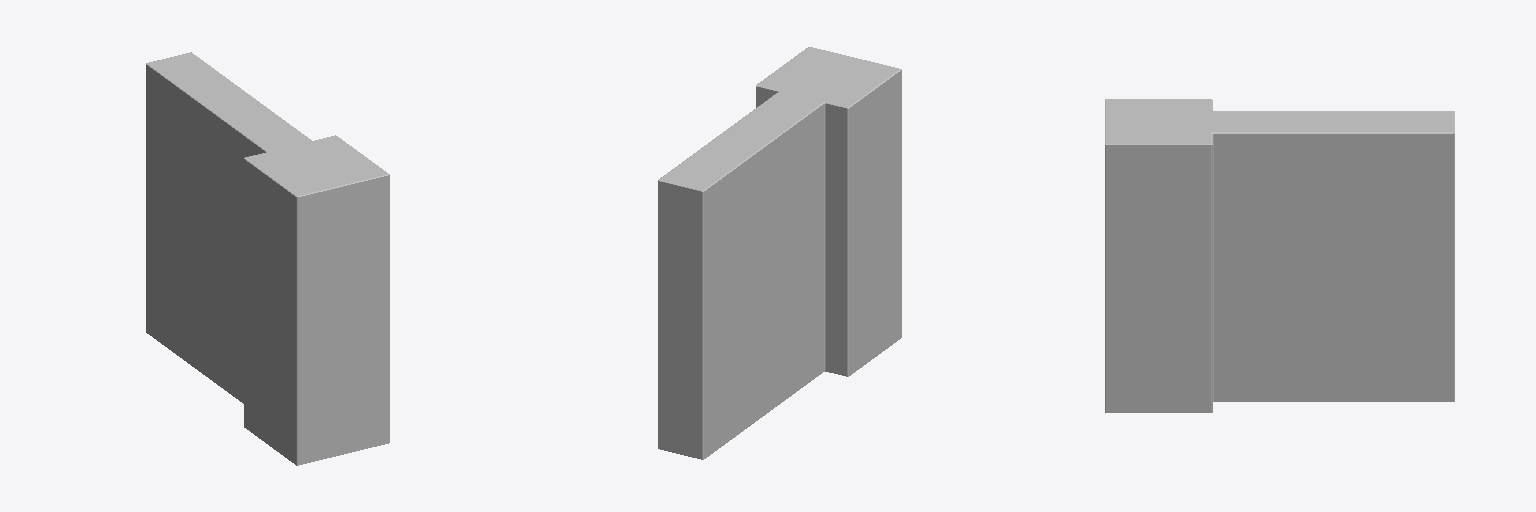
The model's file is Room_01_Platform_01.obj.
3 views of the same model, side by side, from view 1: azimuth 30°, elevation 25°; view 2: azimuth 150°, elevation 25°; view 3: azimuth 270°, elevation 25° (orthographic).
Visible parts, largest first — view 1: Room_01_Platform_01_Cube; view 2: Room_01_Platform_01_Cube; view 3: Room_01_Platform_01_Cube.
Part boxes in pixels (x1,y1,x2,y2): Room_01_Platform_01_Cube: (146,52,389,465); Room_01_Platform_01_Cube: (658,47,901,459); Room_01_Platform_01_Cube: (1105,99,1454,412).
Size of the model in its own units: 4 by 11 by 13.